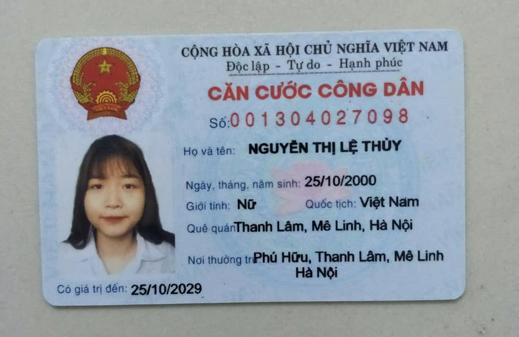bottom_left: (42, 294, 58, 308)
bottom_right: (451, 282, 466, 301)
image_person: (59, 136, 178, 272)
top_left: (34, 39, 50, 56)
top_right: (450, 29, 466, 48)
